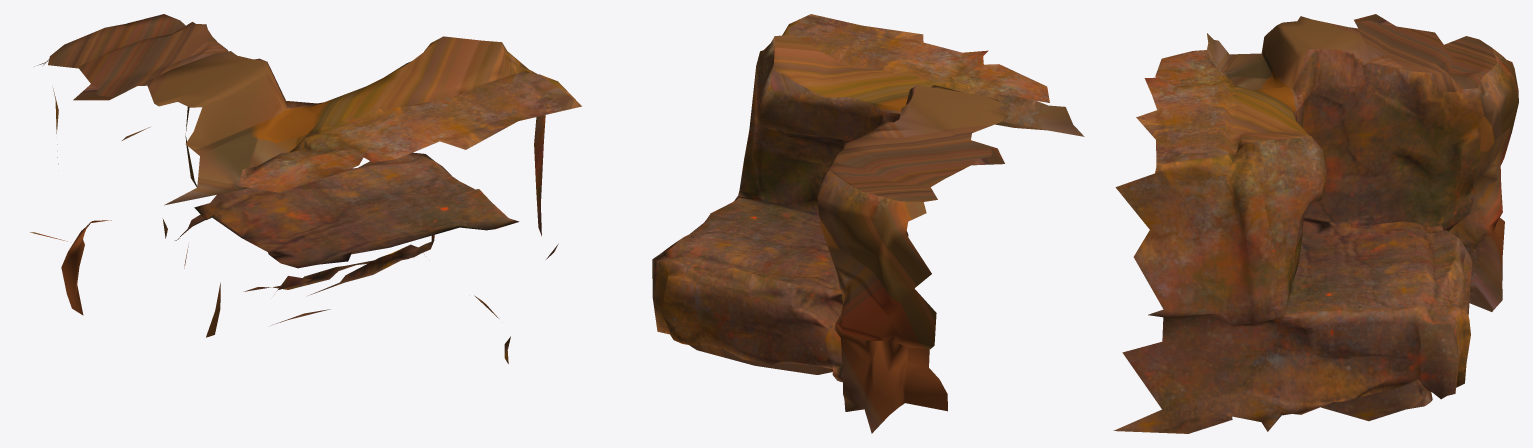
3 views of the same model, side by side, from view 1: azimuth 30°, elevation 25°; view 2: azimuth 150°, elevation 25°; view 3: azimuth 270°, elevation 25° (orthographic). The views are drawn at different scales.
Parts seen in each view (by area): view 1: SM_Cliff_01; view 2: SM_Cliff_01; view 3: SM_Cliff_01.
Part boxes in pixels (left/top/right/bottom): SM_Cliff_01: left=30, top=14, right=581, bottom=363; SM_Cliff_01: left=652, top=14, right=1084, bottom=433; SM_Cliff_01: left=1113, top=14, right=1518, bottom=433.
Size of the model in its own units: 8.82 by 7.33 by 9.31.
Materials: 1 (1 with a texture image).
